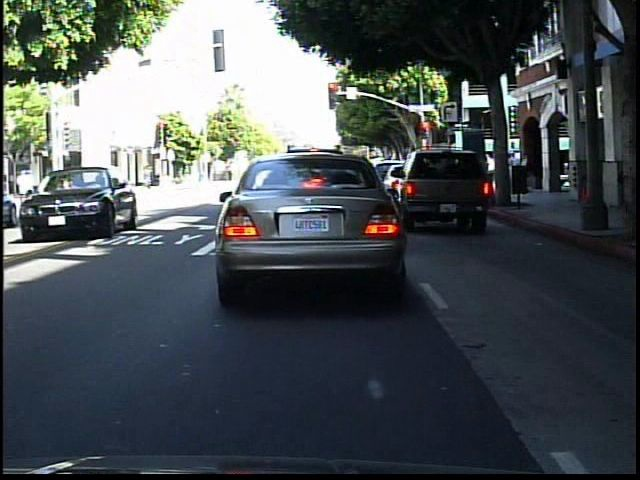person: (618, 141, 639, 220), (590, 142, 612, 217), (68, 161, 85, 200), (58, 163, 72, 206), (41, 168, 55, 206), (141, 160, 157, 192)
